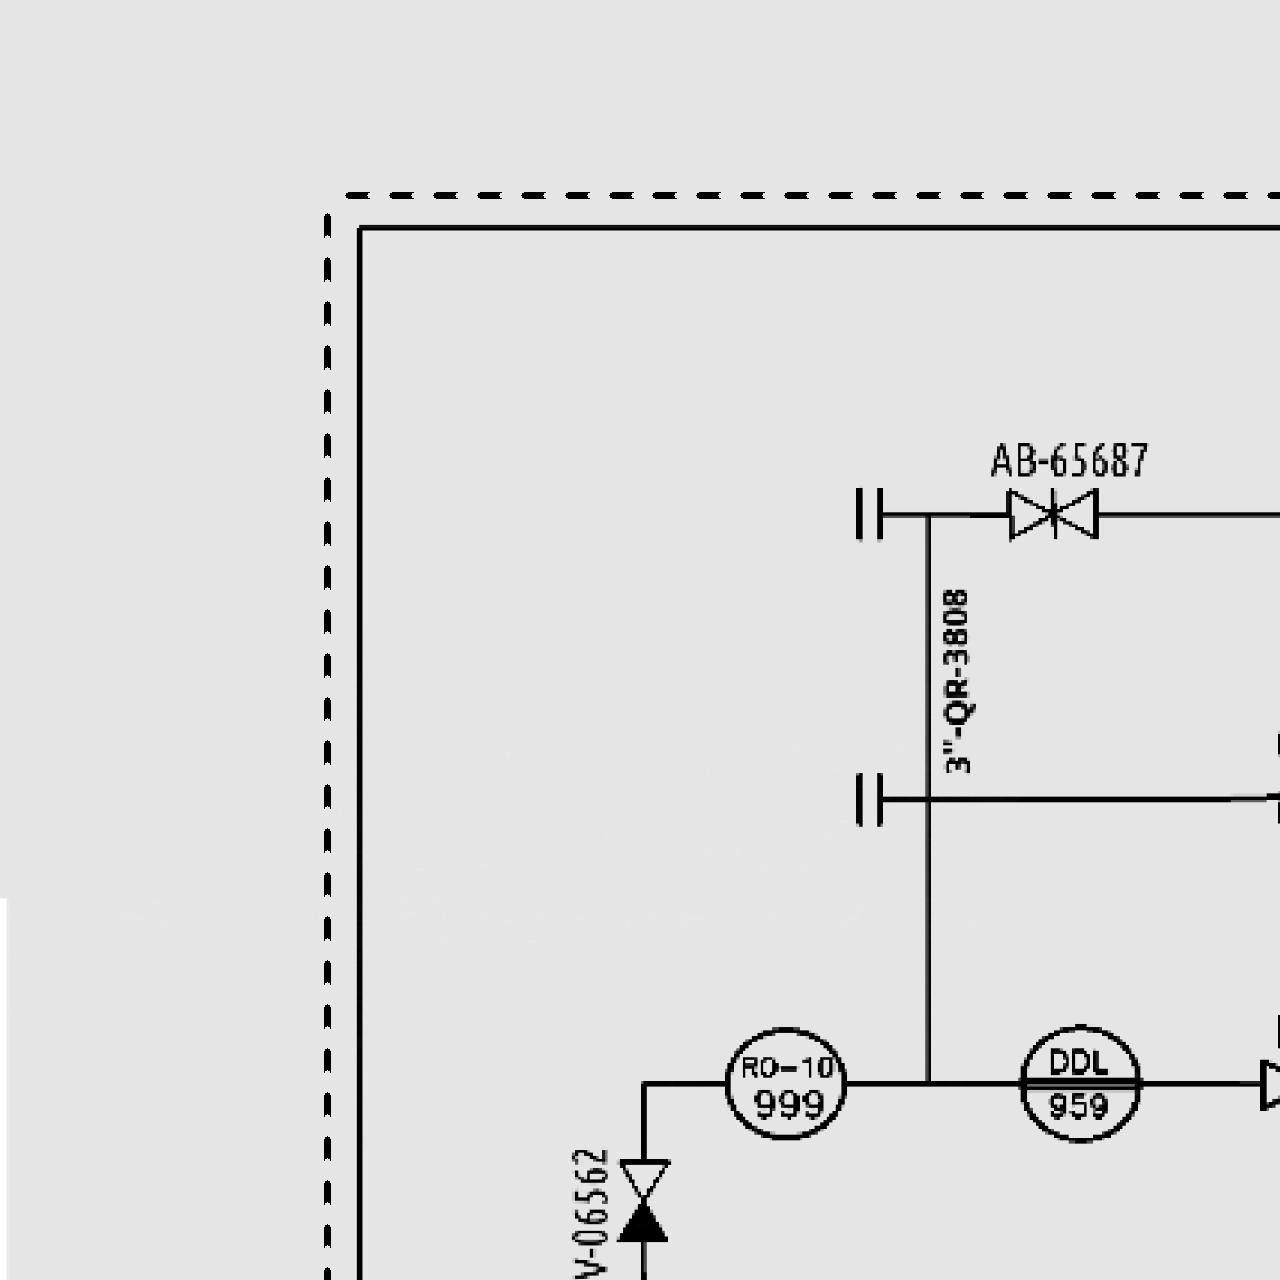Control-Panel: (1014, 1017, 1145, 1148), (720, 1017, 850, 1148)
Half closed valve: (611, 1155, 673, 1246)
